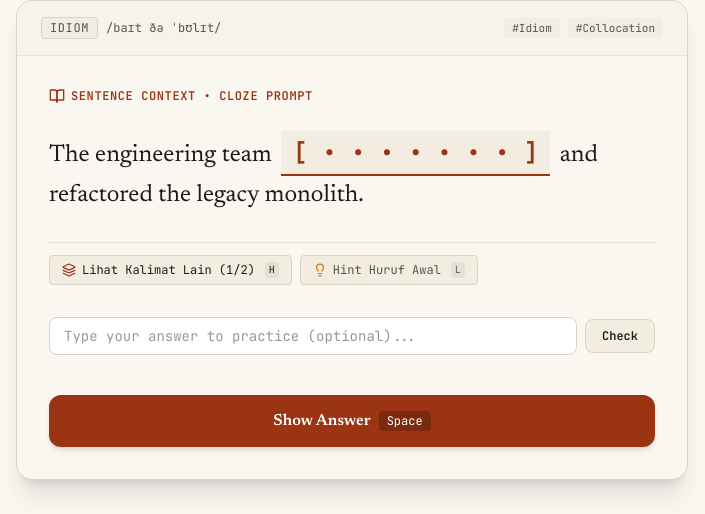
Scenario: ClozeCard Component › switches sentence context when clicking Lihat Kalimat Lain
Click the button "Lihat Kalimat Lain (1/2) H" at (170, 270), box [49,255,292,285]
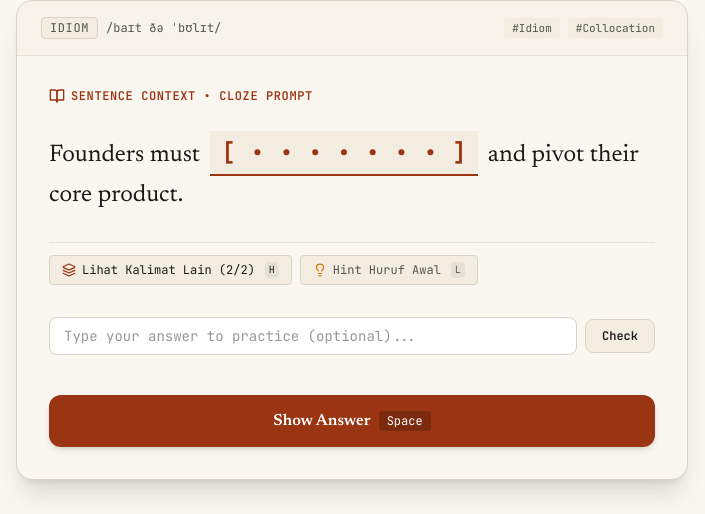
Expected: the text "Founders must" is shown, [49,143,206,167]
Expected: the text "and pivot their core product." is shown, [49,143,638,207]
